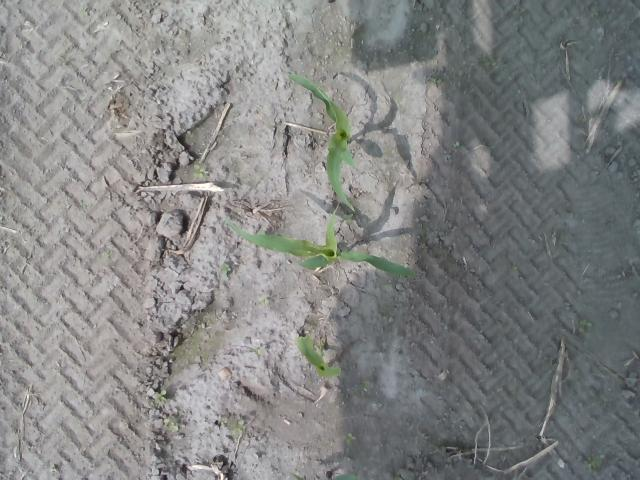Maize: (226, 214, 417, 278), (286, 74, 356, 212), (294, 336, 342, 377), (291, 468, 363, 480)
Weeds: (219, 416, 246, 432), (164, 416, 179, 433), (152, 388, 168, 402), (582, 456, 602, 467), (341, 432, 358, 444), (579, 318, 593, 332), (192, 164, 204, 179), (258, 294, 270, 305), (342, 214, 352, 224), (222, 264, 232, 274), (360, 382, 368, 393)
